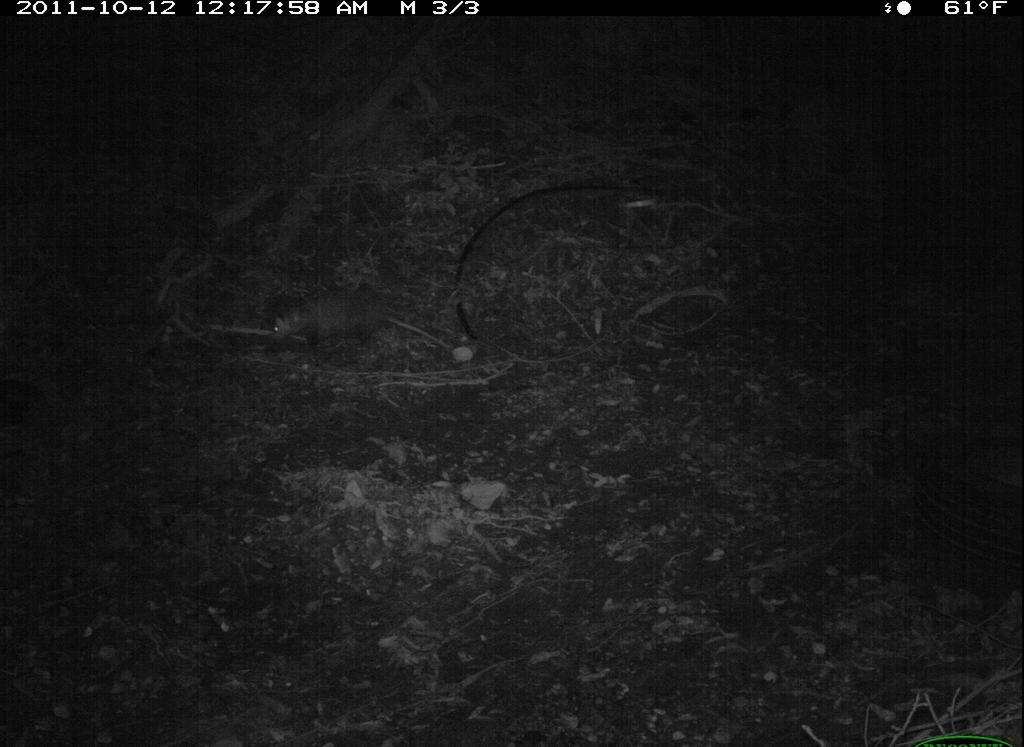opossum: (255, 277, 463, 363)
